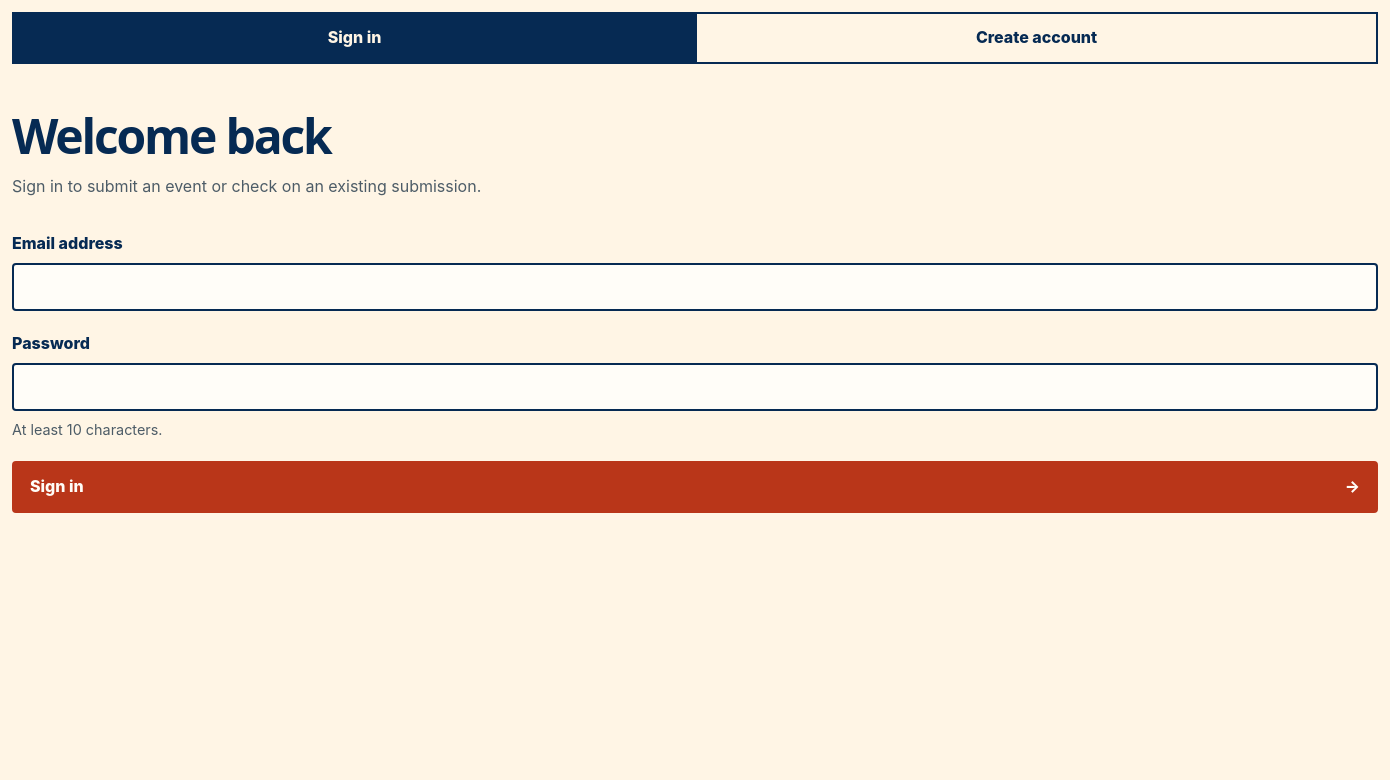
Test: AuthForm › shows a friendly sign-in error without clearing entered credentials
This screenshot has width=1390, height=780.
In the field labelled "Email address": (695,287) [12, 263, 1378, 311], type "person@example.com"
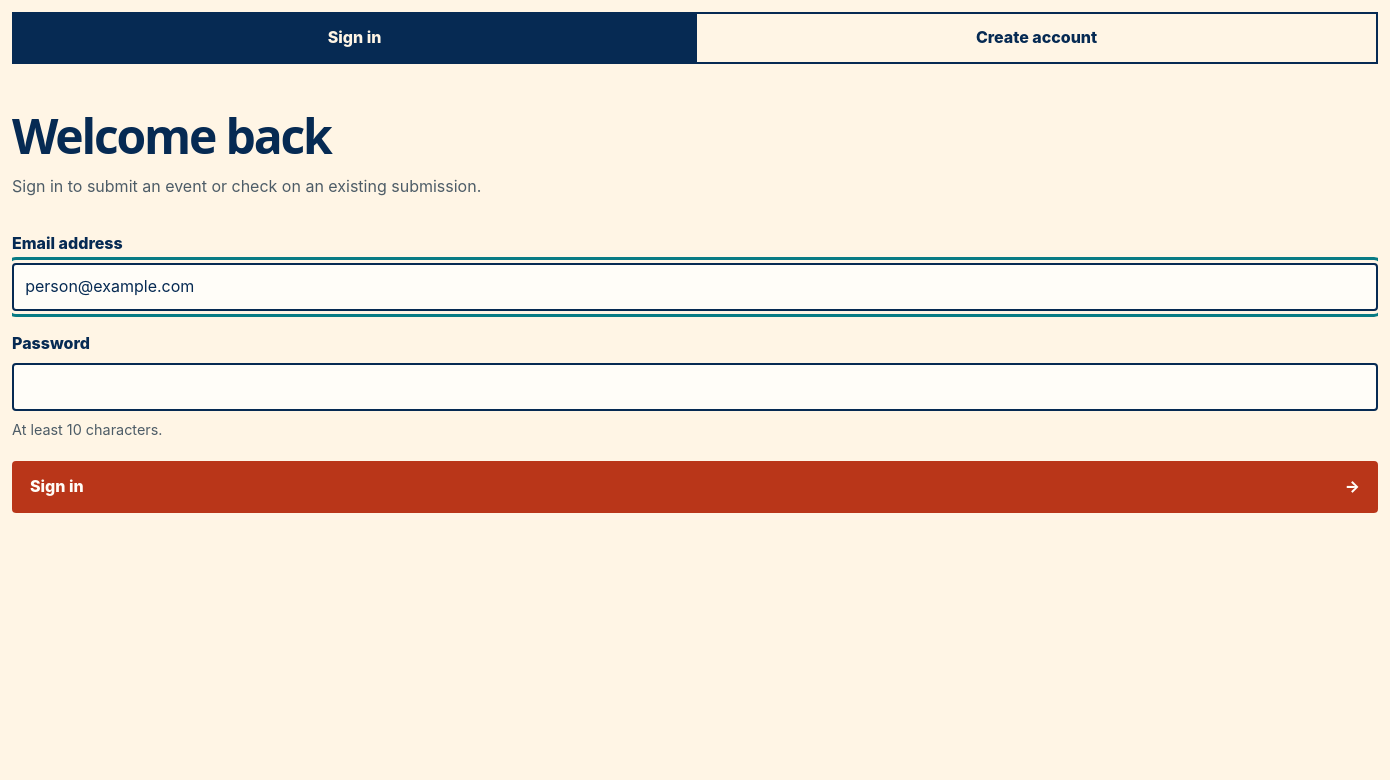
In the password field labelled "Password": (695,387) [12, 363, 1378, 411], type "correct horse"
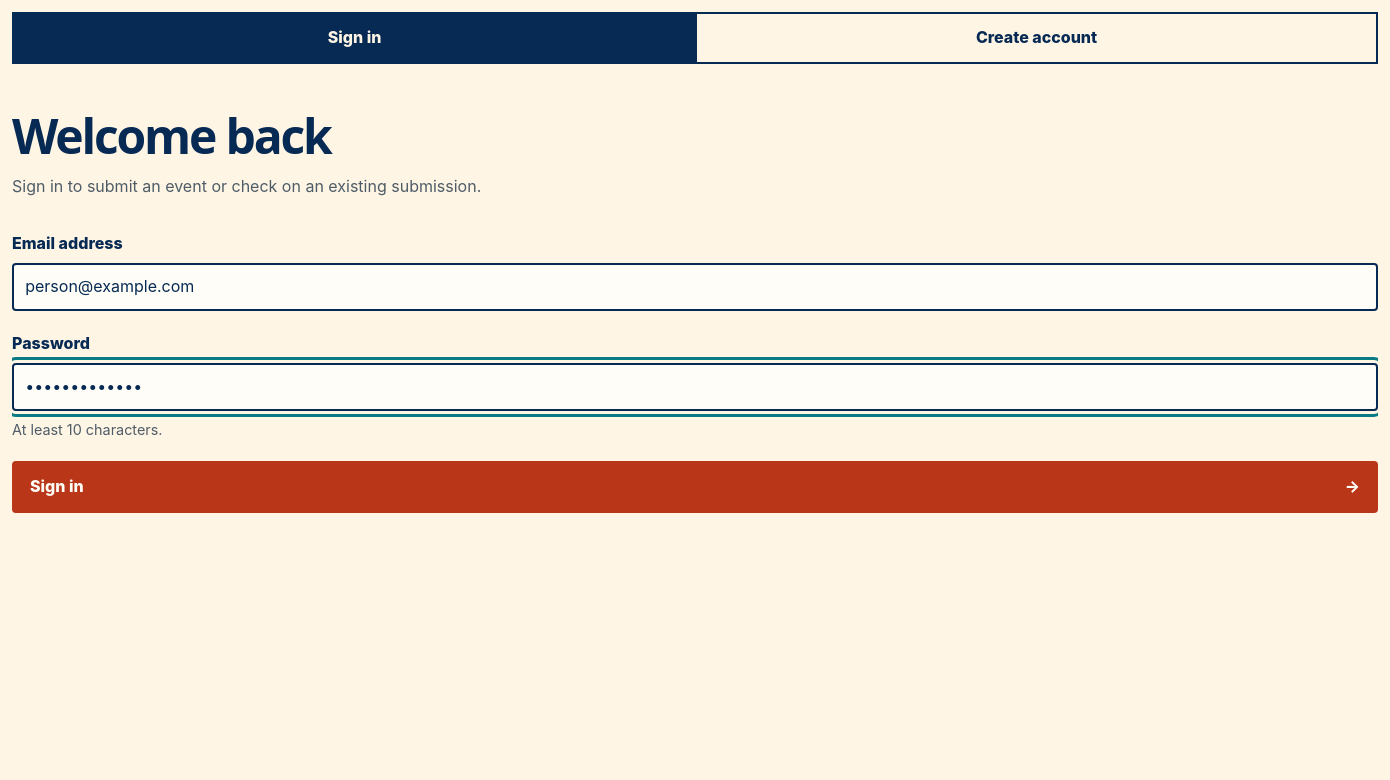
Click the button "Sign in →": (57,486) [12, 461, 1378, 513]
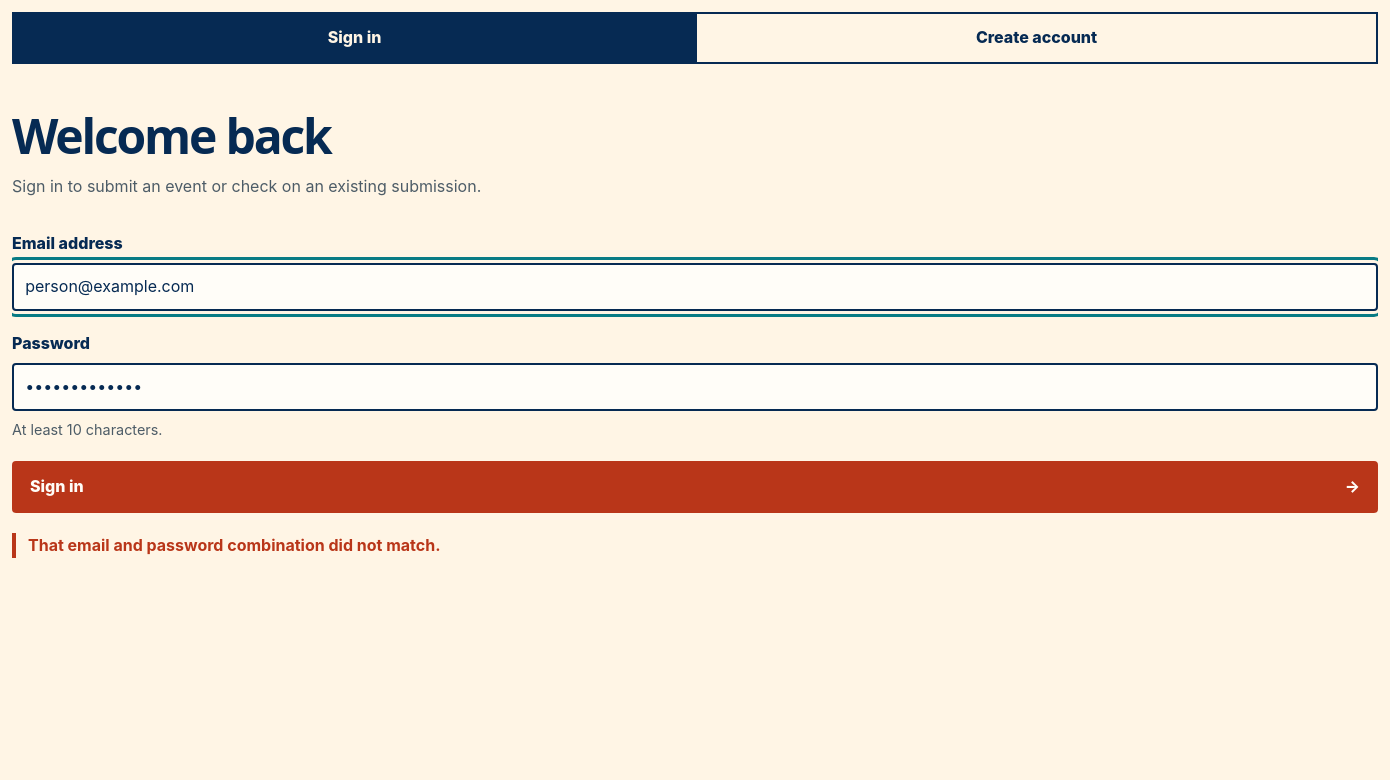
Result: the message reads "That email and password combination did not match." at [28, 535, 440, 555]
In the password field labelled "Password": (695,387) [12, 363, 1378, 411], type "!"
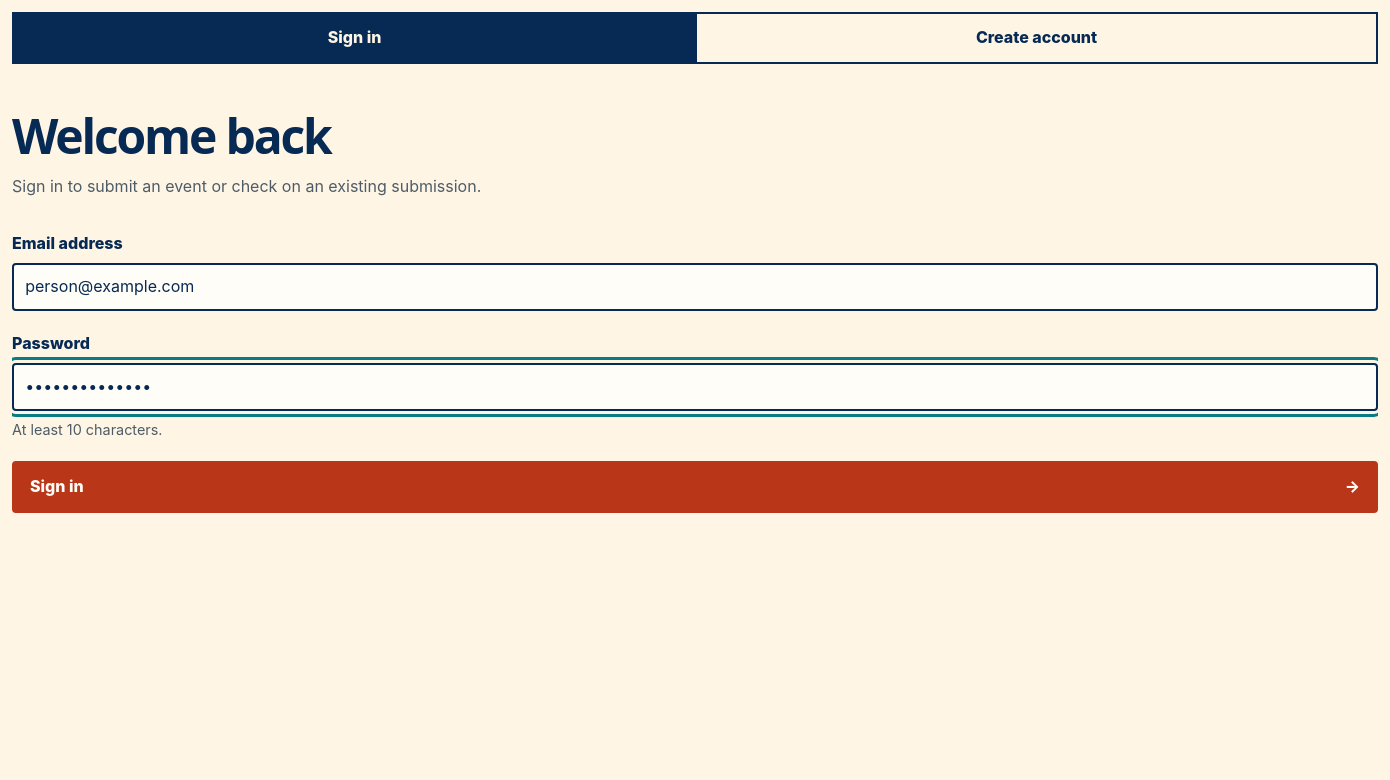
Result: the message "That email and password combination did not match." is gone
